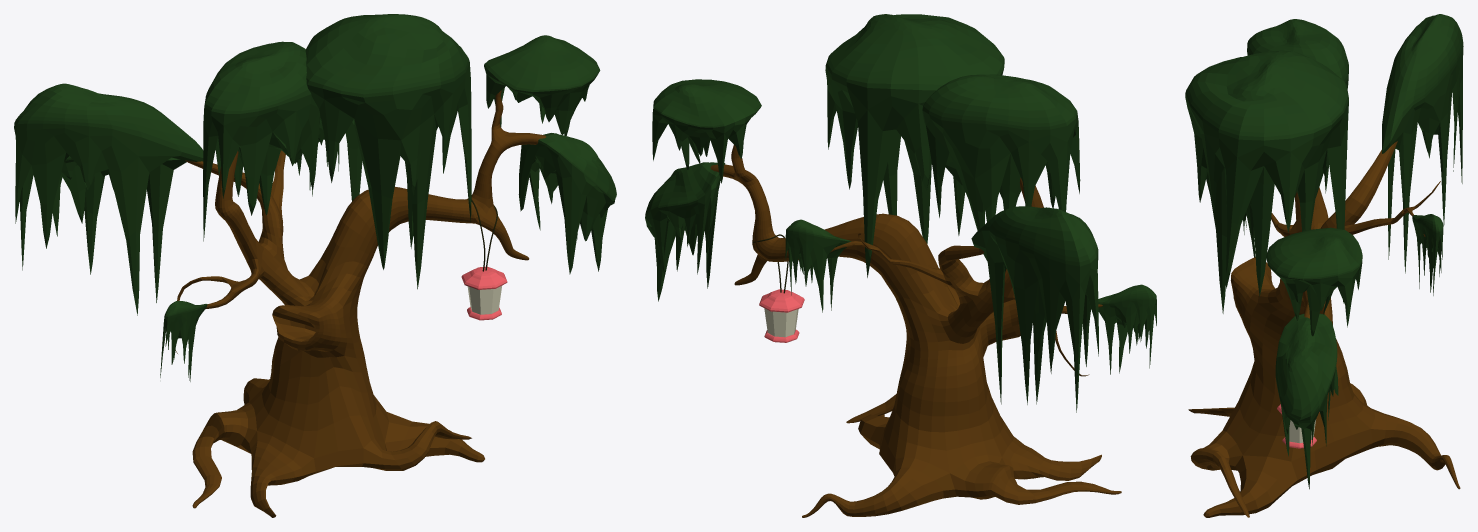
The model's file is willowLantern3.fbx.
The picture shows the model from 3 angles, left to right: view 1: azimuth 30°, elevation 25°; view 2: azimuth 150°, elevation 25°; view 3: azimuth 270°, elevation 25°; orthographic projection.
Visible parts, largest first — view 1: WillowLeaves, willowTrunk, willowLamp, willowLampLight; view 2: WillowLeaves, willowTrunk, willowLamp, willowLampLight; view 3: WillowLeaves, willowTrunk.
Boxes of the visible parts, <box> form: WillowLeaves: <box>14,14,616,381</box>; willowTrunk: <box>175,90,545,517</box>; willowLamp: <box>461,266,507,320</box>; willowLampLight: <box>467,286,501,314</box>; WillowLeaves: <box>645,14,1156,412</box>; willowTrunk: <box>710,145,1121,517</box>; willowLamp: <box>759,289,804,342</box>; willowLampLight: <box>764,308,798,337</box>; WillowLeaves: <box>1185,14,1463,489</box>; willowTrunk: <box>1188,141,1460,517</box>.
Size of the model in its own units: 732 by 584 by 341.
